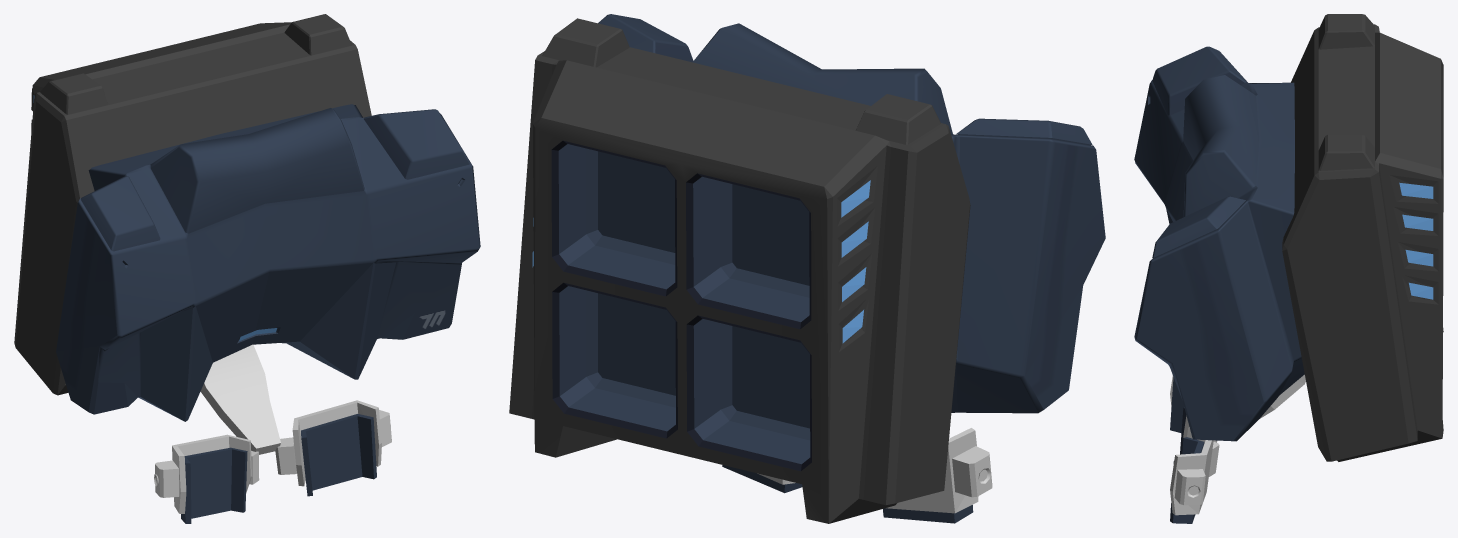
The model's file is GrenadeBag.fbx.
3 renders of one model, left to right at view 1: azimuth 30°, elevation 25°; view 2: azimuth 150°, elevation 25°; view 3: azimuth 270°, elevation 25°, orthographic. The views are drawn at different scales.
Visible parts, largest first — view 1: bagModel; view 2: bagModel; view 3: bagModel.
Boxes of the visible parts, left/top/right/bottom form: bagModel: left=14, top=14, right=480, bottom=523; bagModel: left=509, top=14, right=1105, bottom=523; bagModel: left=1134, top=14, right=1443, bottom=523.
Bounding box in the file's own units: 0.3648 × 0.3769 × 0.263.
